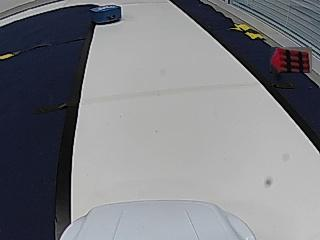prop: (90, 5, 121, 24)
